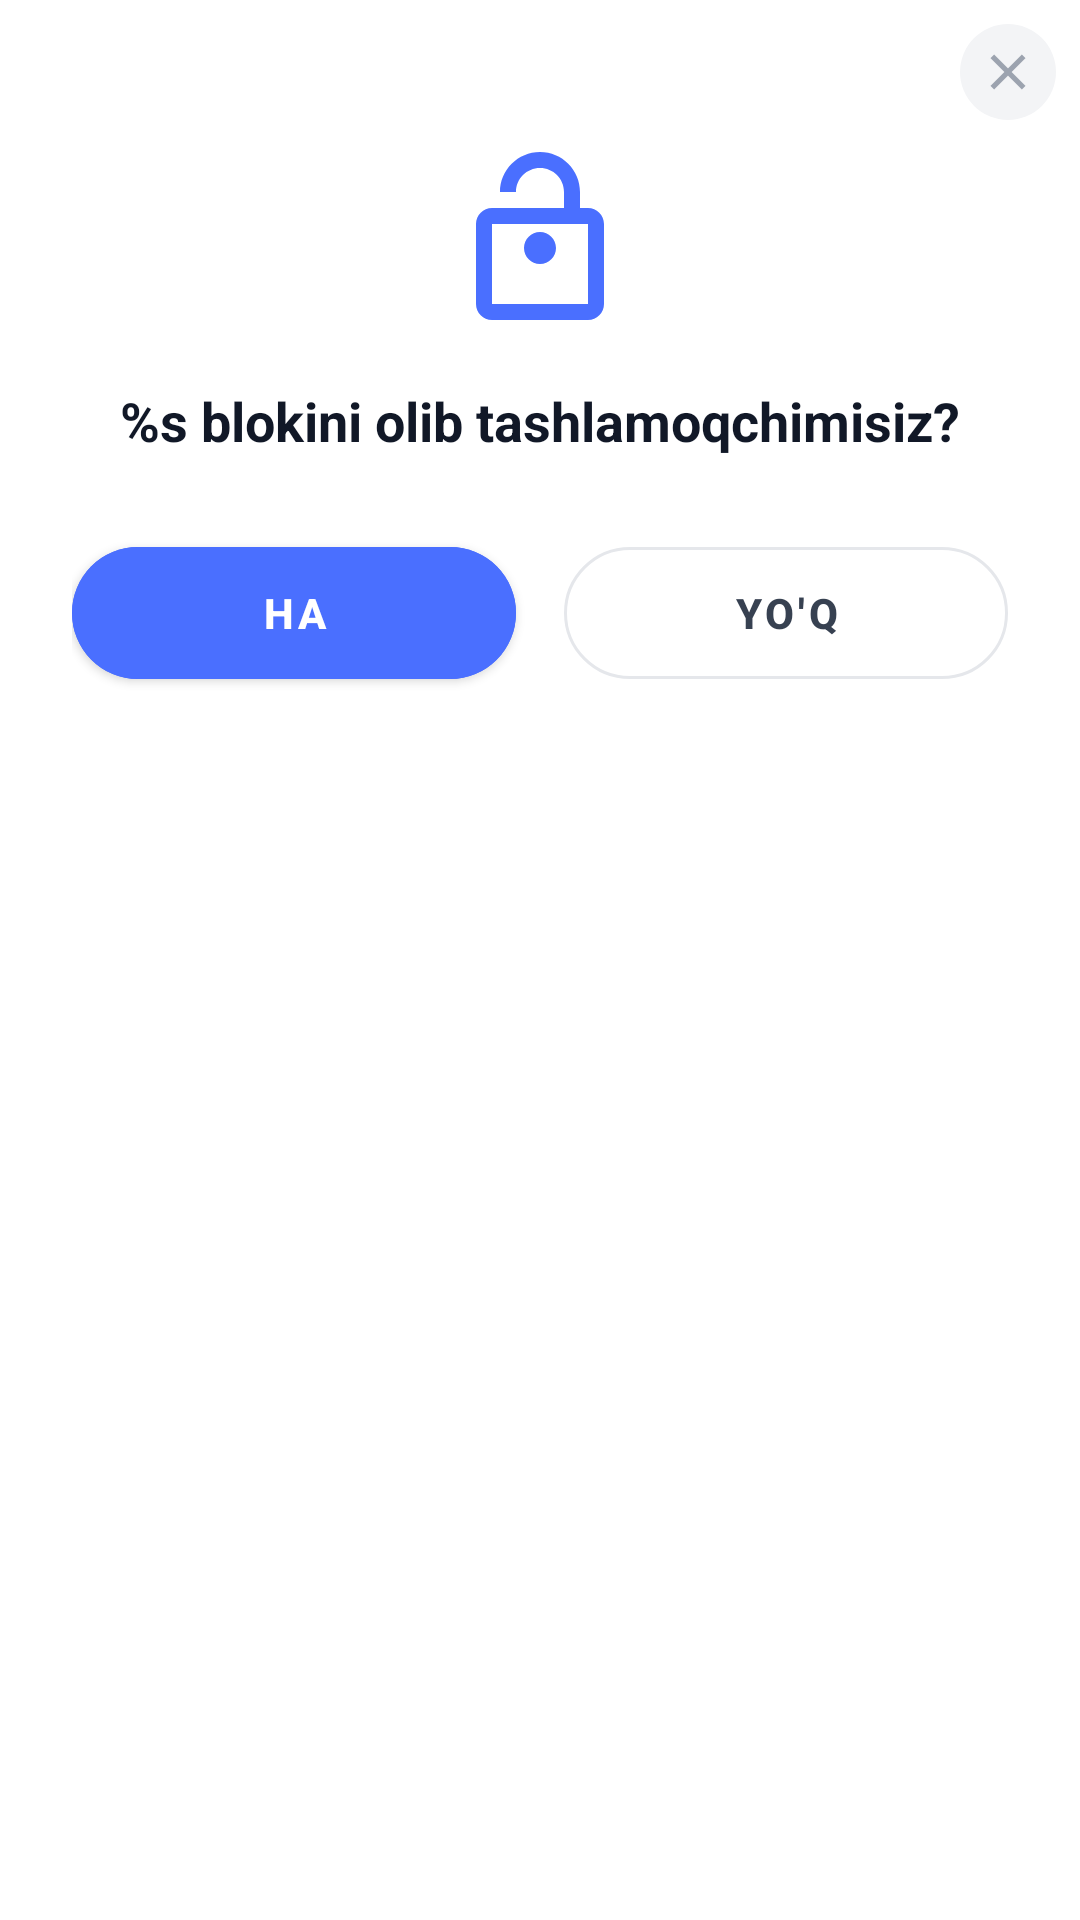

Screen size 1080x1920. Icon name, then its center in pixels as (x=x, y=y):
Close: (x=1008, y=72)
lock open: (x=540, y=236)
